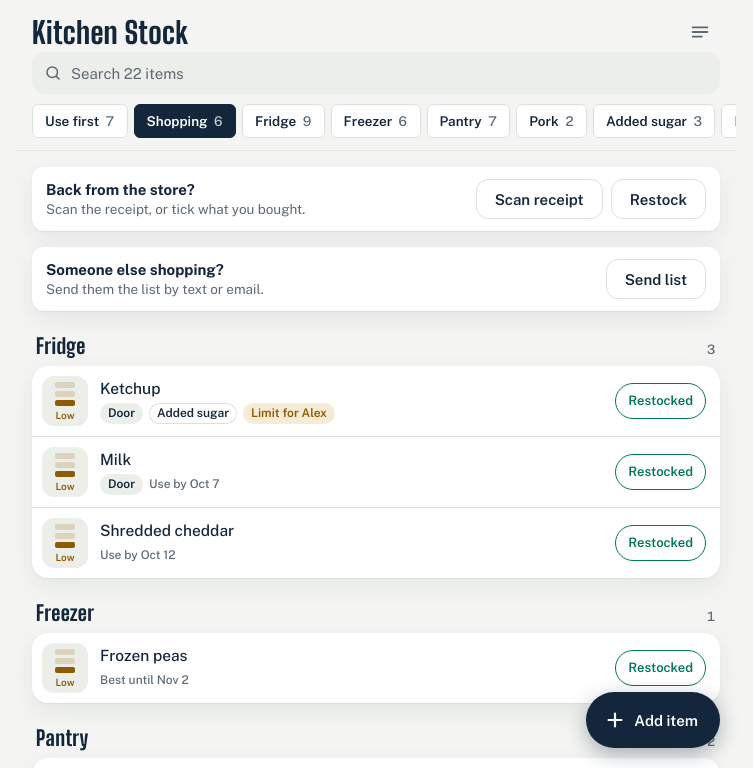
Test: Send list button › copies the kitchen's shopping list from the Shopping tab
The width and height of the screenshot is (753, 768).
Step 1. Click the button "Send list" → coordinates (656, 279), box [606,259,706,299]
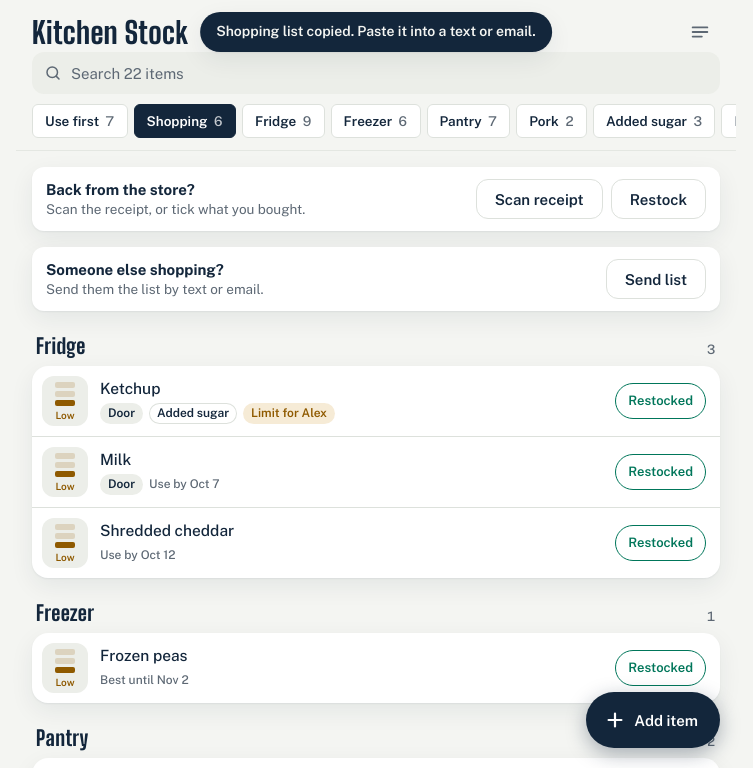
Now the message with class "toast" shows "Shopping list copied", box [216,23,536,39]
